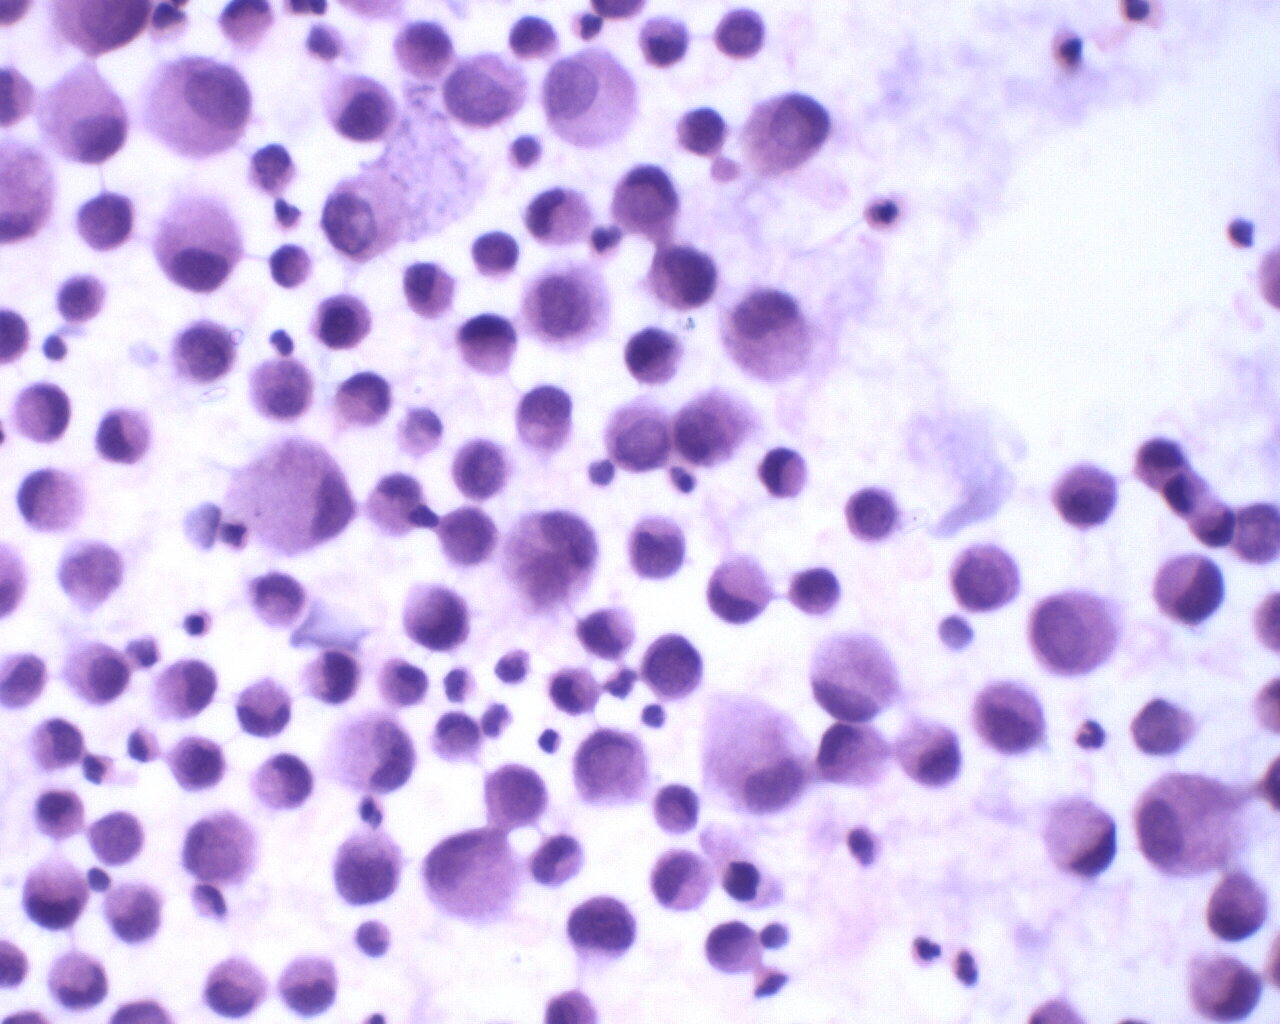ab: (731, 87, 834, 184), (1029, 586, 1130, 682), (319, 165, 410, 266), (440, 39, 531, 130), (967, 673, 1056, 758), (564, 727, 649, 811), (565, 890, 646, 971), (182, 809, 264, 885), (334, 827, 408, 911), (398, 577, 476, 655), (948, 536, 1027, 613), (639, 238, 721, 313), (1201, 869, 1278, 947), (1151, 549, 1227, 628), (604, 395, 675, 476), (1054, 458, 1126, 532), (389, 11, 462, 84), (508, 383, 579, 458), (639, 631, 708, 705), (481, 761, 553, 831), (161, 319, 235, 387), (448, 433, 516, 506), (71, 185, 138, 258), (241, 357, 316, 422), (430, 503, 498, 573), (839, 481, 909, 548), (160, 729, 231, 795), (305, 292, 376, 355), (627, 513, 686, 587), (704, 918, 766, 979), (787, 562, 847, 619), (709, 7, 771, 62)
histo: (219, 430, 356, 559), (697, 684, 817, 822), (419, 821, 533, 933), (805, 621, 912, 728), (1040, 790, 1127, 887)
meso: (1133, 763, 1250, 880), (138, 55, 257, 165), (146, 183, 250, 300), (33, 59, 132, 167), (53, 636, 142, 708)
neutro: (565, 7, 605, 50), (951, 945, 987, 990), (908, 929, 944, 969), (1069, 715, 1106, 752)
